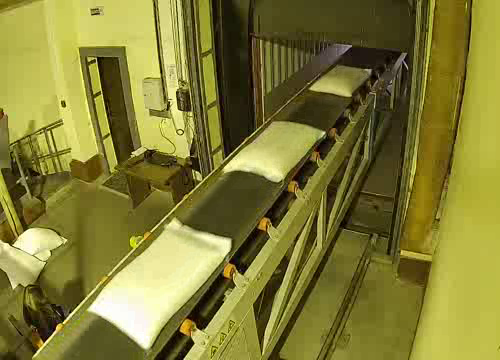bag: (79, 217, 244, 355), (220, 114, 335, 186), (308, 61, 376, 98)
